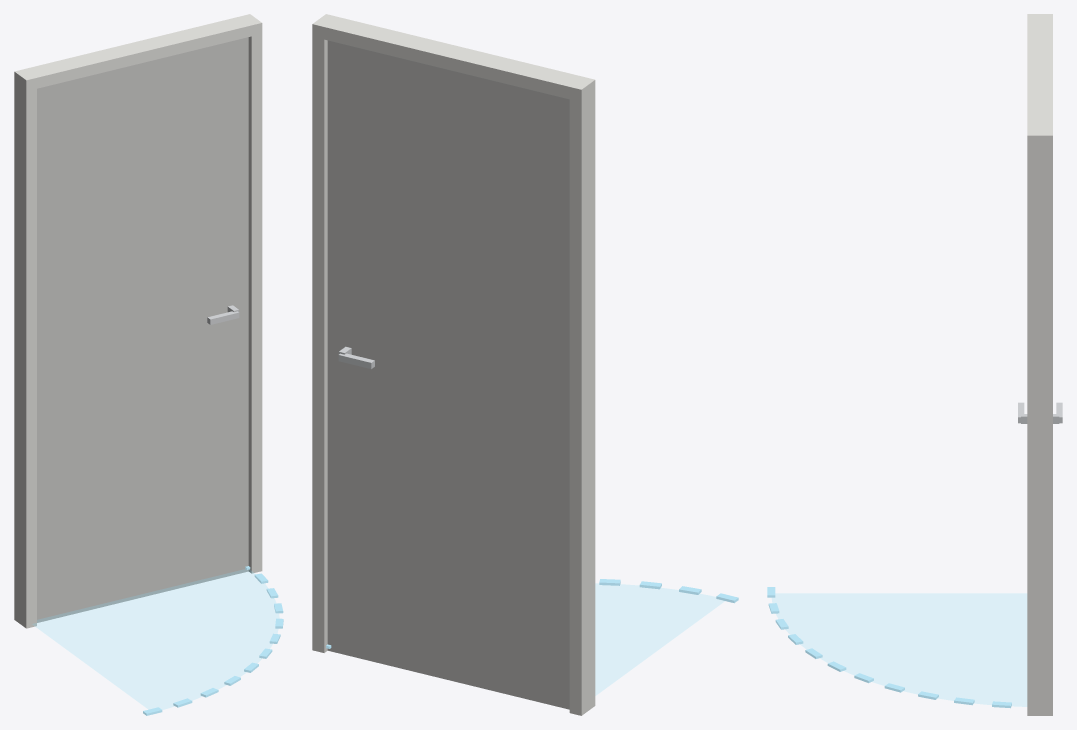
The model's file is door_swing_white.glb.
3 views of the same model, side by side, from view 1: azimuth 30°, elevation 25°; view 2: azimuth 150°, elevation 25°; view 3: azimuth 270°, elevation 25° (orthographic). The views are drawn at different scales.
Parts seen in each view (by area): view 1: door_swing_white; view 2: door_swing_white; view 3: door_swing_white.
Boxes of the visible parts, left/top/right/bottom form: door_swing_white: left=14, top=14, right=283, bottom=715; door_swing_white: left=312, top=14, right=738, bottom=715; door_swing_white: left=767, top=14, right=1062, bottom=715.
Size of the model in its own units: 0.91 by 2 by 0.9225.
